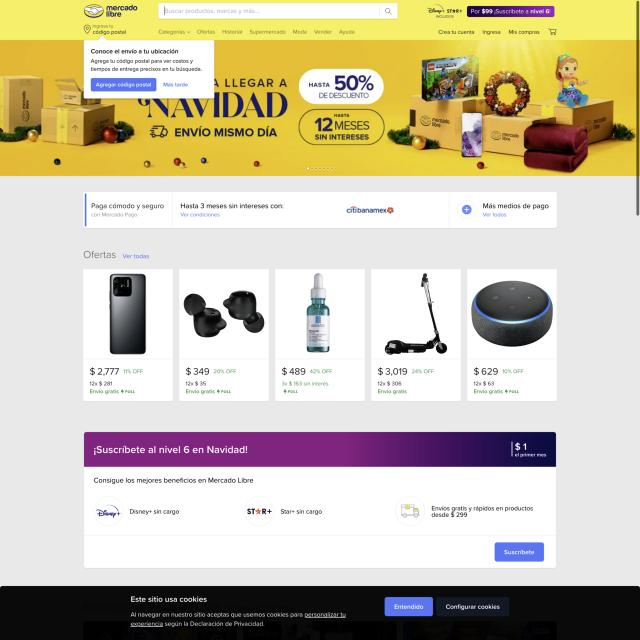input: (157, 4, 398, 21)
logo: (82, 2, 142, 18), (424, 3, 467, 20)
navigation: (156, 28, 358, 36), (435, 28, 542, 36)
